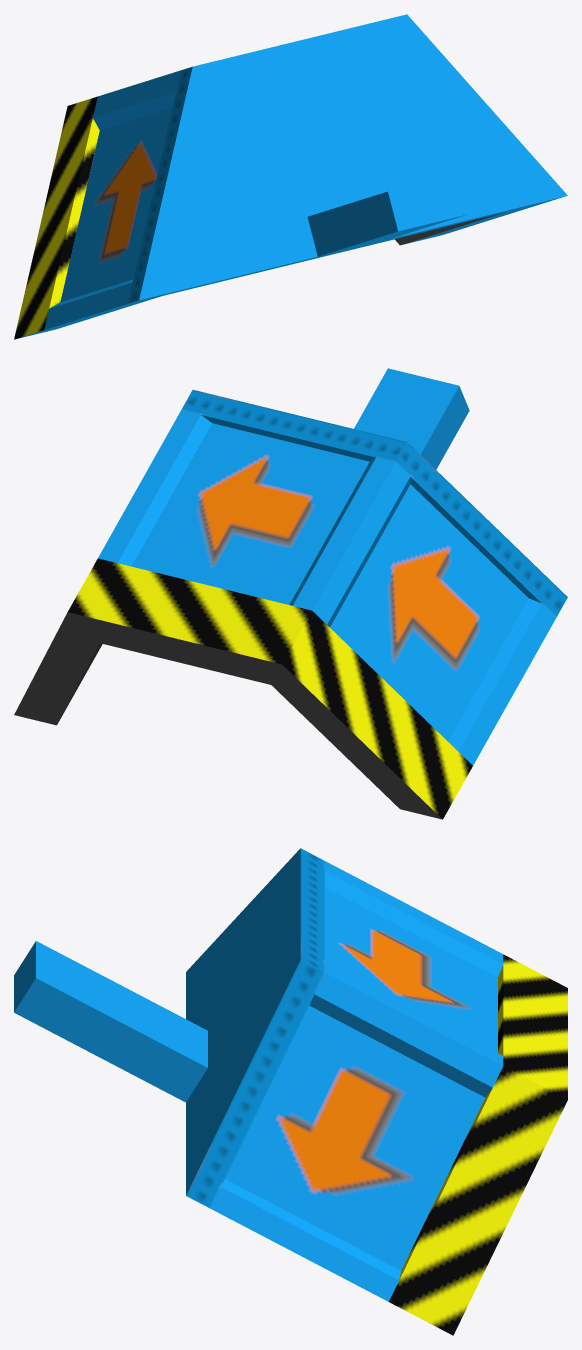
File: convert3.gltf
3 renders of one model, top to bottom at view 1: azimuth 30°, elevation 25°; view 2: azimuth 150°, elevation 25°; view 3: azimuth 270°, elevation 25°, orthographic. The views are drawn at different scales.
Visible parts, largest first — view 1: convert3; view 2: convert3; view 3: convert3.
Part boxes in pixels (box(x1,y1,x2,y2)): convert3: box(14, 14, 567, 339); convert3: box(14, 368, 567, 819); convert3: box(14, 848, 567, 1335).
Bounding box in the file's own units: 12 × 8 × 12.56.
